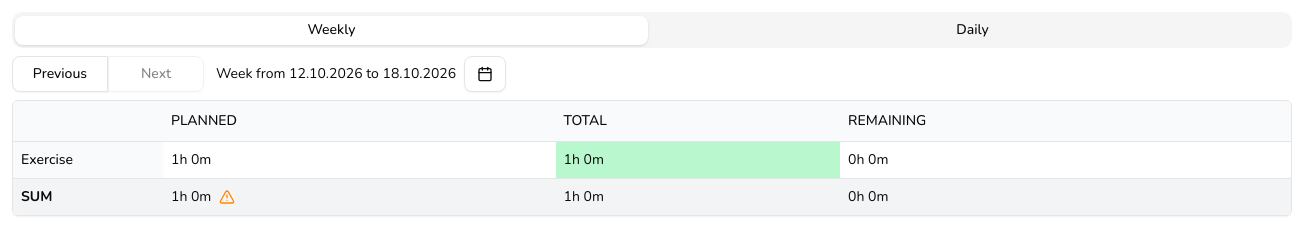
Test: existing statistics views with a different profile timezone › keeps History's selected calendar week and its requests aligned during navigation
The width and height of the screenshot is (1304, 233).
Expected: the text "Exercise" is shown, [21,150,73,170]
Expected: the button "Next" is disabled, [108,56,204,92]
Click the button "Previous".
click(60, 74)  # box [12,56,108,92]
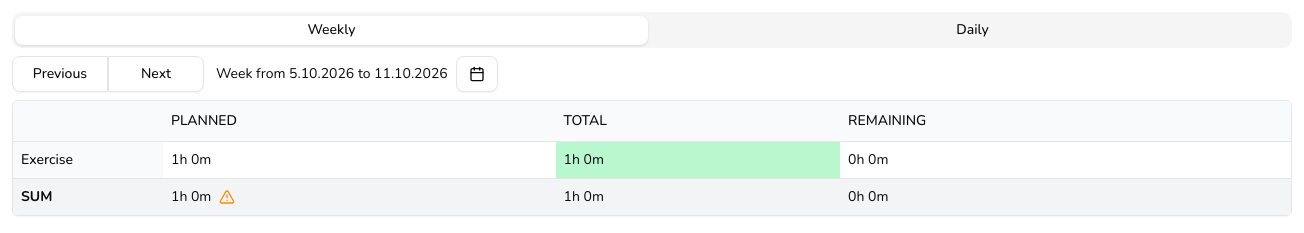
Click the button "Next".
click(156, 74)  # box [108,56,204,92]
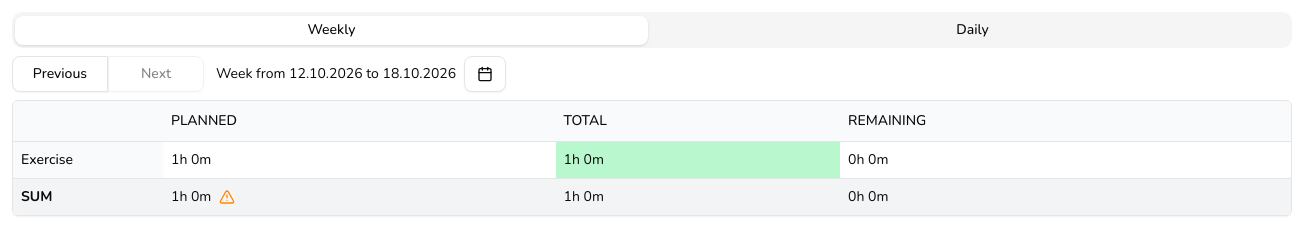
Expected: the button "Next" is disabled, [108,56,204,92]
